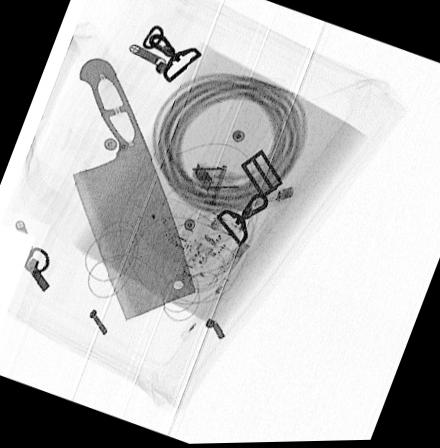Knife: (68, 58, 197, 322)
